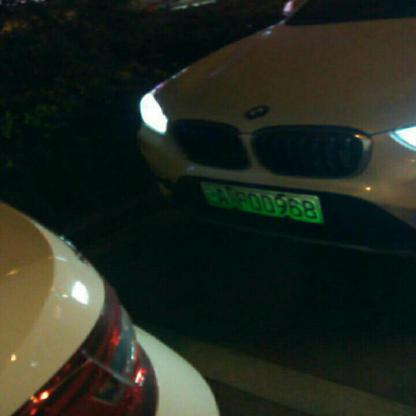lp: (201, 182, 322, 223)
